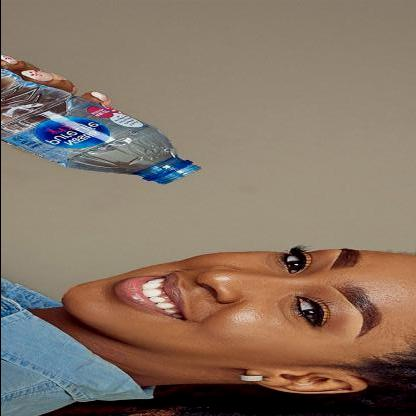bottle: (1, 59, 201, 187)
